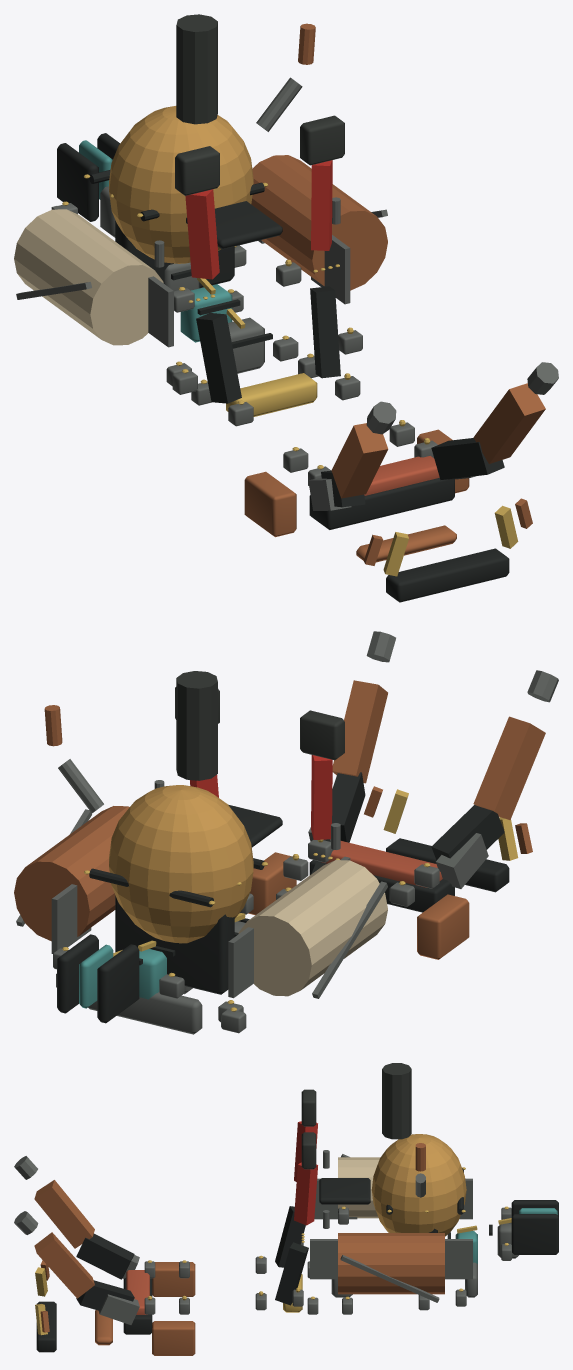
File: trucks.glb
The picture shows the model from 3 angles, top to bottom: view 1: azimuth 30°, elevation 25°; view 2: azimuth 150°, elevation 25°; view 3: azimuth 270°, elevation 25°; orthographic projection. The views are drawn at different scales.
Visible parts, largest first — view 1: big-kettle-boiler-shell, old-bess-side-tank, old-bess-side-tank.001, big-kettle-smoke-stack, dragon-wagon-jaw-lower, rust-rhino-rhino-nose-rim, rust-rhino-horn-up.001, dragon-wagon-stack-riser, rust-rhino-horn-up, rust-rhino-rhino-cheek-armour, dragon-wagon-stack-neck, tin-lizard-tail-fin-left (+18 smaller); view 2: big-kettle-boiler-shell, old-bess-side-tank, old-bess-side-tank.001, big-kettle-smoke-stack, big-kettle-boiler-cradle, rust-rhino-horn-up, rust-rhino-horn-up.001, rust-rhino-rhino-cheek-armour, tin-lizard-tail-fin-left, old-bess-rear-step, rust-rhino-rhino-painted-nose, rust-rhino-rhino-horn-socket (+26 smaller); view 3: big-kettle-boiler-shell, old-bess-side-tank.001, big-kettle-smoke-stack, tin-lizard-tail-fin-right, rust-rhino-horn-up, rust-rhino-horn-up.001, rust-rhino-rhino-cheek-armour.001, rust-rhino-rhino-horn-socket, big-kettle-boiler-front-rim, old-bess-side-tank, rust-rhino-rhino-cheek-armour, dragon-wagon-stack-neck.001 (+18 smaller).
Part boxes in pixels (x1,y1,x2,y2): big-kettle-boiler-shell: (109, 106, 253, 263); old-bess-side-tank: (14, 209, 163, 345); old-bess-side-tank.001: (251, 155, 387, 290); big-kettle-smoke-stack: (176, 14, 217, 124); dragon-wagon-jaw-lower: (386, 548, 509, 602); rust-rhino-rhino-nose-rim: (309, 477, 454, 529); rust-rhino-horn-up.001: (473, 383, 545, 463); dragon-wagon-stack-riser: (196, 313, 241, 403); rust-rhino-horn-up: (331, 423, 388, 498); rust-rhino-rhino-cheek-armour: (244, 471, 296, 537); dragon-wagon-stack-neck: (185, 189, 219, 279); tin-lizard-tail-fin-left: (57, 143, 98, 221); big-kettle-boiler-shell: (109, 785, 253, 943); old-bess-side-tank: (238, 860, 387, 996); old-bess-side-tank.001: (14, 806, 129, 941); big-kettle-smoke-stack: (176, 671, 217, 780); big-kettle-boiler-cradle: (115, 895, 234, 994); rust-rhino-horn-up: (473, 716, 545, 819); rust-rhino-horn-up.001: (332, 680, 387, 783); rust-rhino-rhino-cheek-armour: (417, 894, 469, 959); tin-lizard-tail-fin-left: (97, 944, 139, 1023); old-bess-rear-step: (88, 992, 202, 1034); rust-rhino-rhino-painted-nose: (321, 841, 442, 887); rust-rhino-rhino-horn-socket: (431, 804, 504, 860); big-kettle-boiler-shell: (371, 1134, 466, 1236); old-bess-side-tank.001: (338, 1233, 444, 1294); big-kettle-smoke-stack: (382, 1063, 411, 1139); tin-lizard-tail-fin-right: (511, 1214, 558, 1254); rust-rhino-horn-up: (34, 1180, 94, 1248); rust-rhino-horn-up.001: (34, 1232, 94, 1298); rust-rhino-rhino-cheek-armour.001: (152, 1321, 195, 1355); rust-rhino-rhino-horn-socket: (76, 1233, 134, 1279); big-kettle-boiler-front-rim: (319, 1178, 370, 1204); old-bess-side-tank: (338, 1157, 380, 1218); rust-rhino-rhino-cheek-armour: (152, 1262, 195, 1296); dragon-wagon-stack-neck.001: (294, 1162, 317, 1225).
Bounding box in the file's own units: 2.46 × 2.96 × 5.52.
